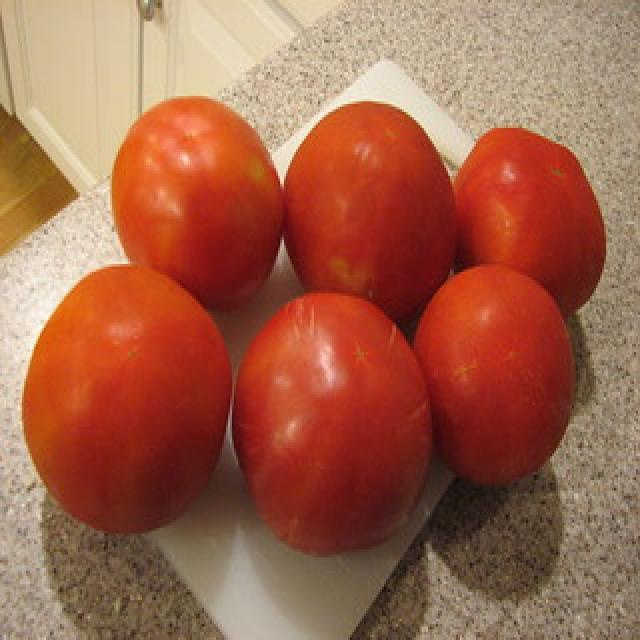Tomato: (18, 261, 234, 538), (229, 287, 437, 555), (105, 90, 286, 310), (281, 96, 458, 320), (416, 262, 579, 488), (449, 126, 608, 315)
